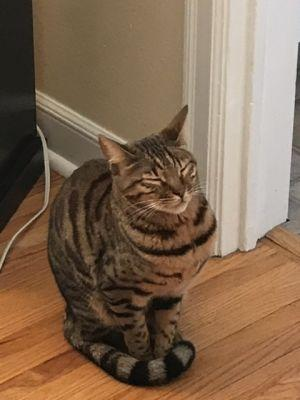bengal: (93, 102, 211, 224)
